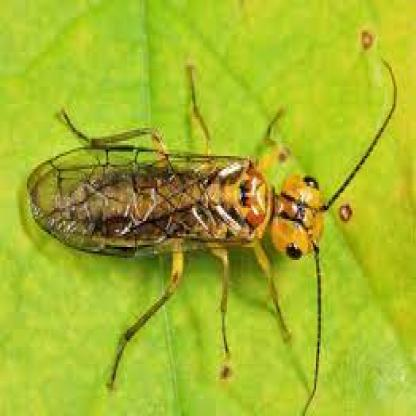sawfly: (20, 62, 400, 416)
